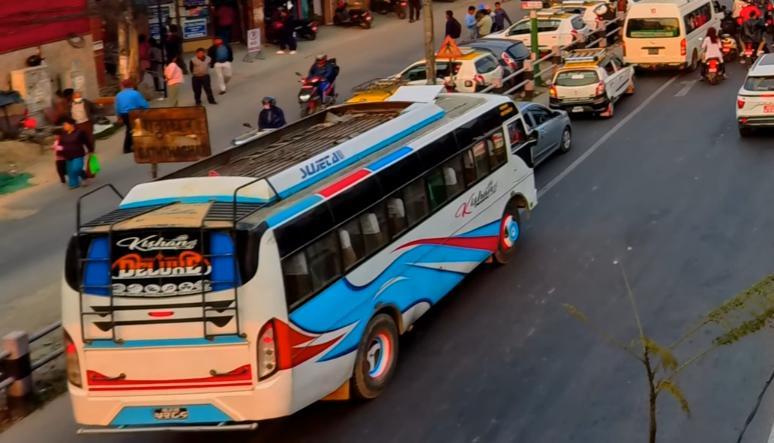bus: (52, 78, 537, 432)
car: (736, 49, 774, 129)
micro_bus: (619, 0, 729, 71)
taxi: (550, 44, 636, 125)
